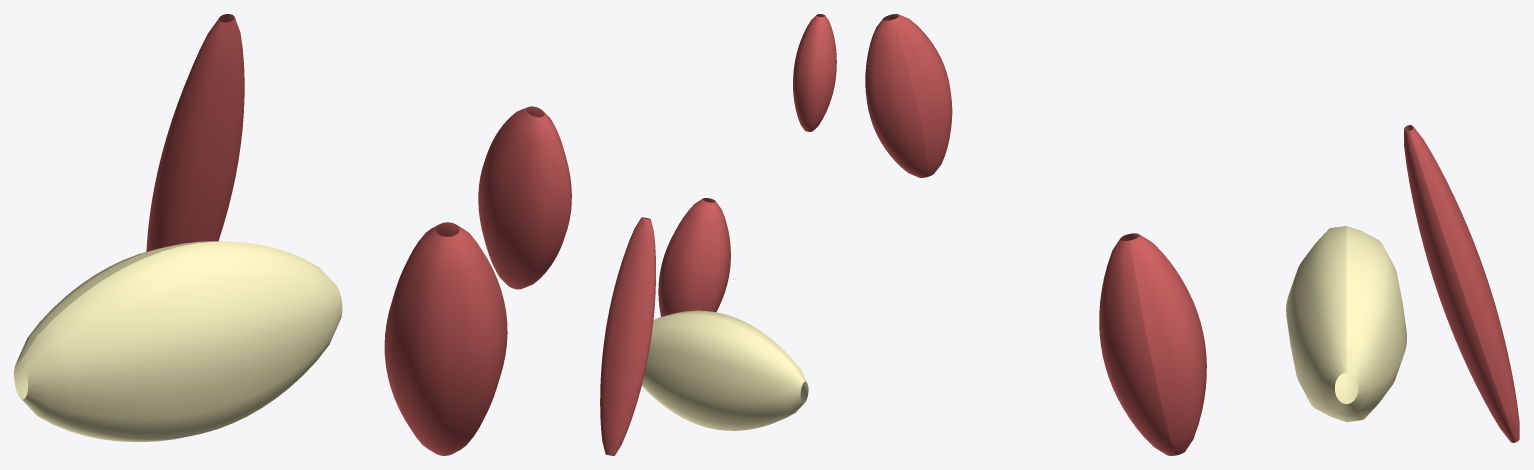
File: muscular.glb
3 renders of one model, left to right at view 1: azimuth 30°, elevation 25°; view 2: azimuth 150°, elevation 25°; view 3: azimuth 270°, elevation 25°, orthographic. The views are drawn at different scales.
Parts seen in each view (by area): view 1: Mesh_Bovine_TunicaFlavaAbdominis, Mesh_Bovine_MusculusTricepsBrachii, Mesh_Bovine_MusculusBicepsFemoris, Mesh_Bovine_MusculusMasseter; view 2: Mesh_Bovine_TunicaFlavaAbdominis, Mesh_Bovine_MusculusBicepsFemoris, Mesh_Bovine_MusculusTricepsBrachii, Mesh_Bovine_MusculusMasseter; view 3: Mesh_Bovine_TunicaFlavaAbdominis, Mesh_Bovine_MusculusTricepsBrachii, Mesh_Bovine_MusculusBicepsFemoris, Mesh_Bovine_MusculusMasseter.
Boxes of the visible parts, box(x1,y1,x2,y2) form: Mesh_Bovine_TunicaFlavaAbdominis: box(14, 241, 342, 441); Mesh_Bovine_MusculusTricepsBrachii: box(384, 222, 507, 455); Mesh_Bovine_MusculusBicepsFemoris: box(146, 14, 244, 251); Mesh_Bovine_MusculusMasseter: box(478, 106, 571, 289); Mesh_Bovine_TunicaFlavaAbdominis: box(642, 310, 808, 430); Mesh_Bovine_MusculusBicepsFemoris: box(600, 217, 655, 455); Mesh_Bovine_MusculusTricepsBrachii: box(658, 198, 730, 316); Mesh_Bovine_MusculusMasseter: box(793, 14, 836, 131); Mesh_Bovine_TunicaFlavaAbdominis: box(1286, 226, 1406, 422); Mesh_Bovine_MusculusTricepsBrachii: box(1099, 233, 1206, 455); Mesh_Bovine_MusculusBicepsFemoris: box(1404, 125, 1519, 442); Mesh_Bovine_MusculusMasseter: box(865, 14, 952, 177).
Bounding box in the file's own units: 0.7615 × 1.02 × 1.42.
